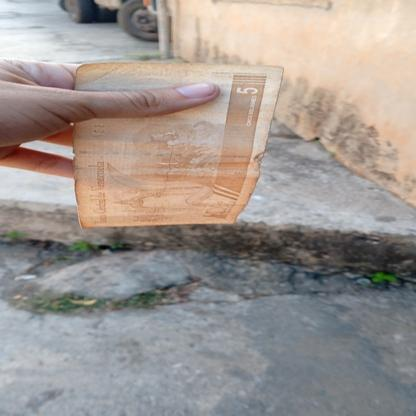five-back-vef: (72, 62, 284, 228)
